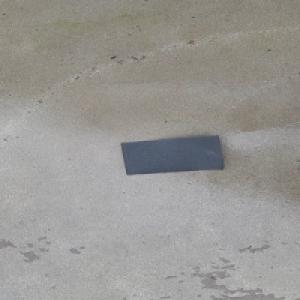PaintChip: (120, 134, 224, 175)
